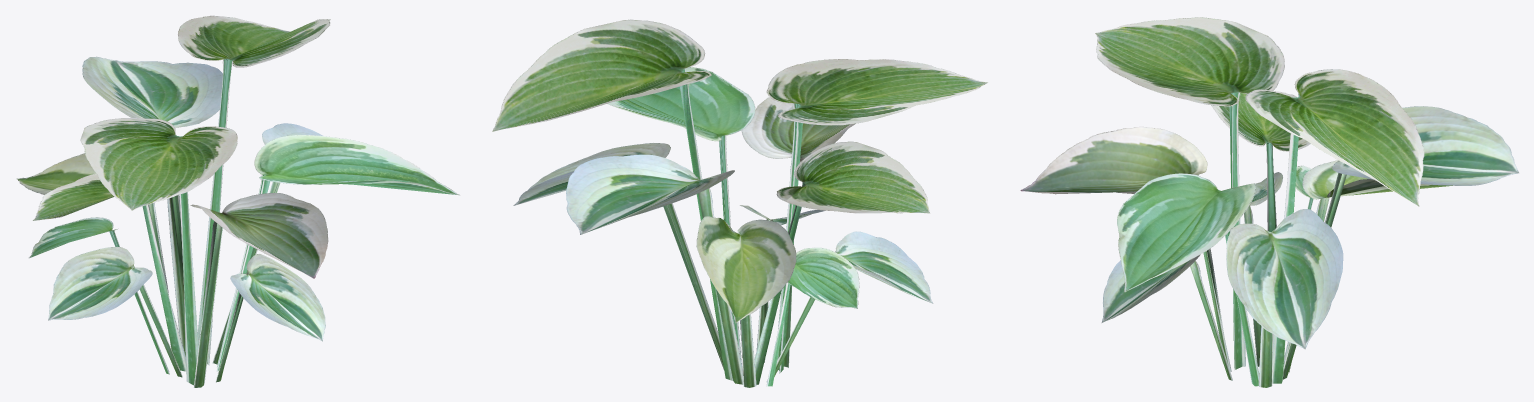
File: plant_small_wg_00K.fbx
The picture shows the model from 3 angles, left to right: view 1: azimuth 30°, elevation 25°; view 2: azimuth 150°, elevation 25°; view 3: azimuth 270°, elevation 25°; orthographic projection. The views are drawn at different scales.
Visible parts, largest first — view 1: plant_small_wg_00K; view 2: plant_small_wg_00K; view 3: plant_small_wg_00K.
Part boxes in pixels (x1=…): plant_small_wg_00K: x1=16, y1=15, x2=459, y2=387; plant_small_wg_00K: x1=492, y1=19, x2=987, y2=387; plant_small_wg_00K: x1=1020, y1=17, x2=1518, y2=387.
Bounding box in the file's own units: 49.58 × 39.23 × 54.76.
Materials: 1 (1 with a texture image).
